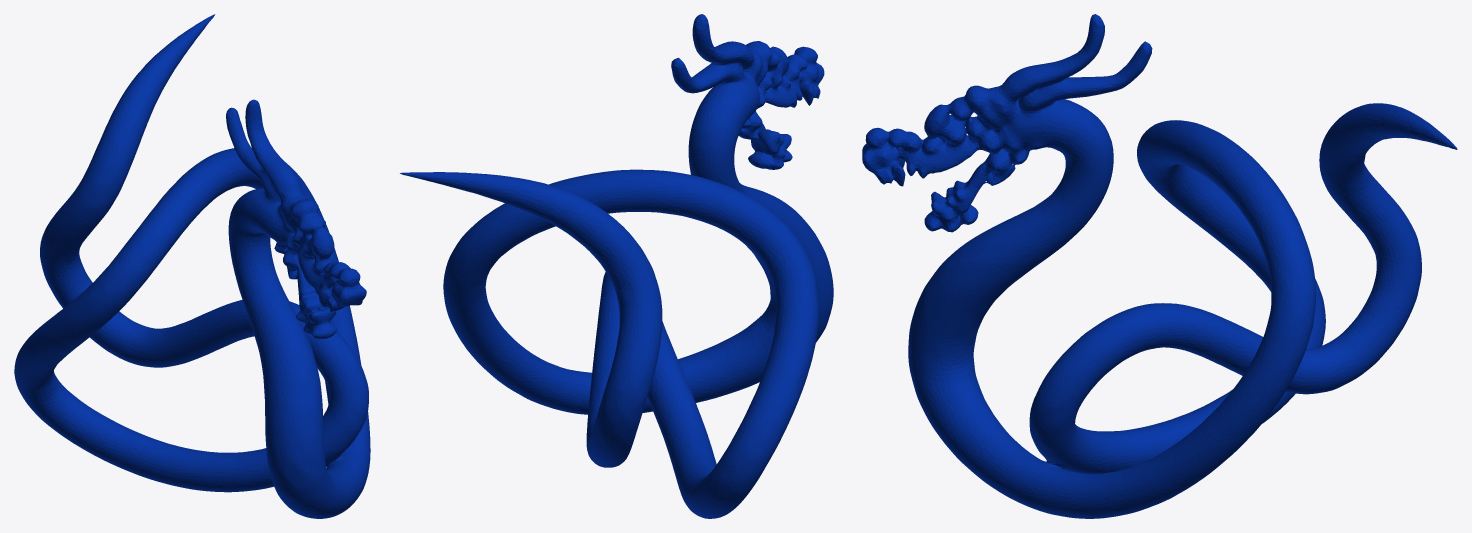
File: seiryu_v01ar.glb
3 renders of one model, left to right at view 1: azimuth 30°, elevation 25°; view 2: azimuth 150°, elevation 25°; view 3: azimuth 270°, elevation 25°, orthographic. The views are drawn at different scales.
Visible parts, largest first — view 1: 青龍テスト; view 2: 青龍テスト; view 3: 青龍テスト.
Boxes of the visible parts, <box> form: 青龍テスト: <box>14,14,370,518</box>; 青龍テスト: <box>400,14,833,518</box>; 青龍テスト: <box>862,14,1457,518</box>.
Size of the model in its own units: 9.16 by 11.35 by 13.18.
1 material, 1 textured.
